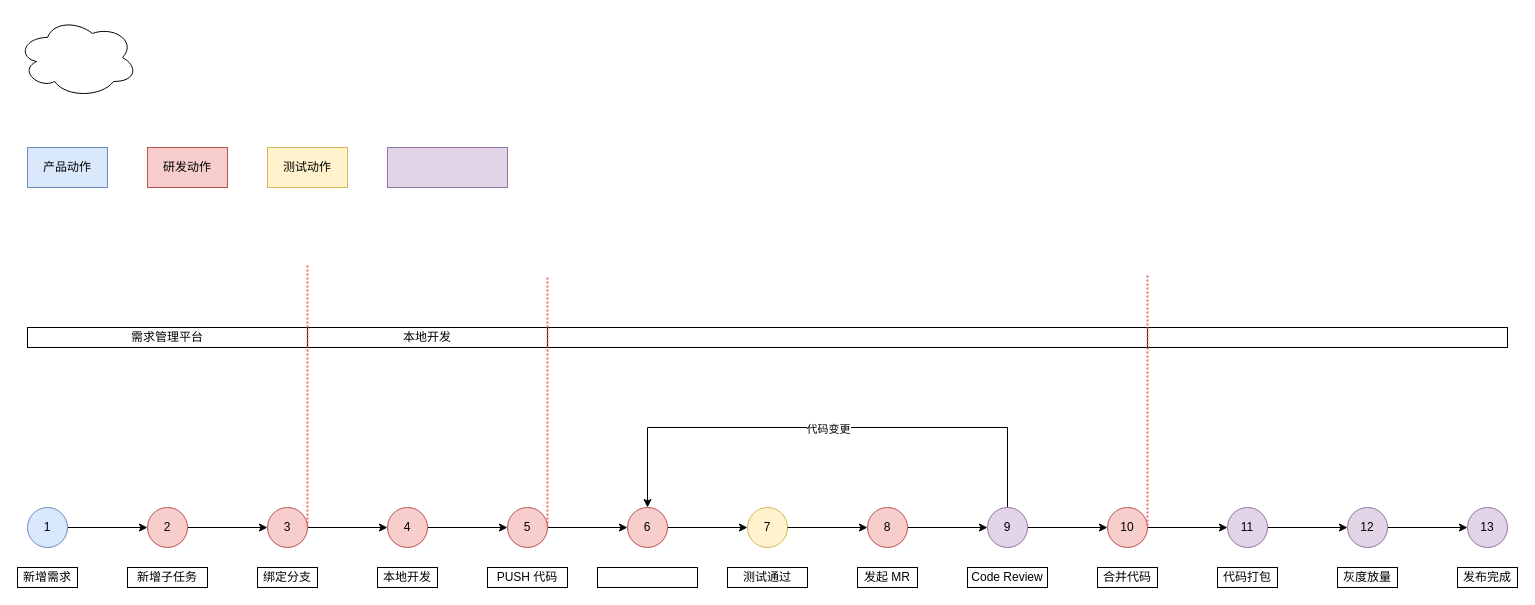
The diagram is 1535 pixels wide and 605 high, and some of its shapes have lost their labels. Each missing label, with the box of its shape:
FE Platform 发版平台发布: (1146, 326, 1508, 348)
云效: (546, 326, 1148, 348)
发起提测或自测: (596, 566, 698, 588)
图例说明: (16, 16, 138, 98)
项目 Owner 动作: (386, 146, 508, 188)
